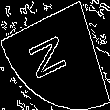N_E: (31, 27, 79, 83)
